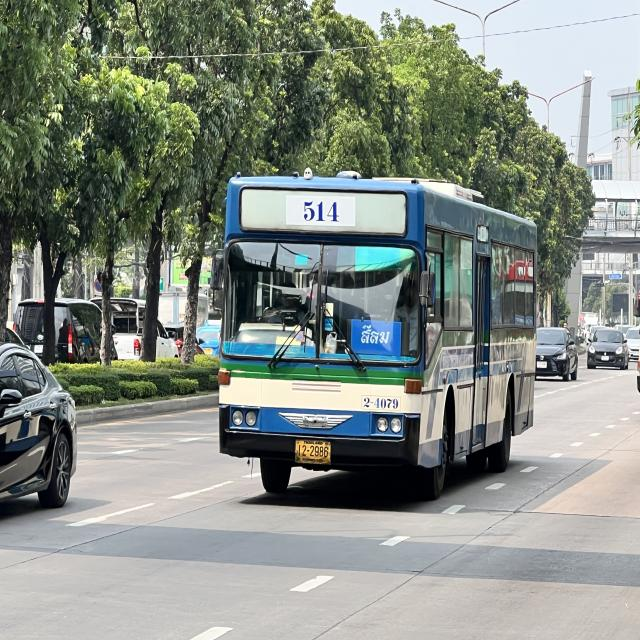BMTA-bus: (210, 161, 544, 507)
Bus-Line-Number: (286, 197, 356, 226)
Destination-Sign-Normal: (351, 319, 402, 356)
